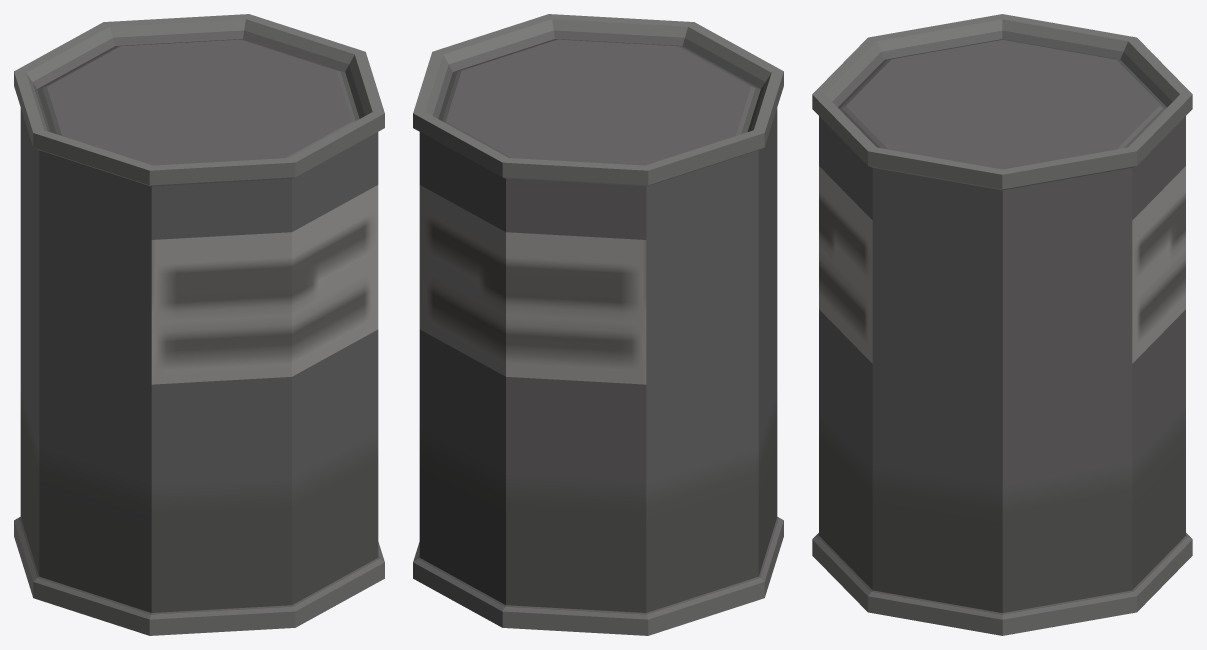
File: SM_Item_Can_01.fbx
The picture shows the model from 3 angles, left to right: view 1: azimuth 30°, elevation 25°; view 2: azimuth 150°, elevation 25°; view 3: azimuth 270°, elevation 25°; orthographic projection.
Visible parts, largest first — view 1: SM_Item_Can_01; view 2: SM_Item_Can_01; view 3: SM_Item_Can_01.
Boxes of the visible parts, left/top/right/bottom form: SM_Item_Can_01: left=14, top=14, right=384, bottom=635; SM_Item_Can_01: left=413, top=14, right=783, bottom=635; SM_Item_Can_01: left=812, top=14, right=1192, bottom=635.
Bounding box in the file's own units: 18.19 × 24.32 × 18.19.
